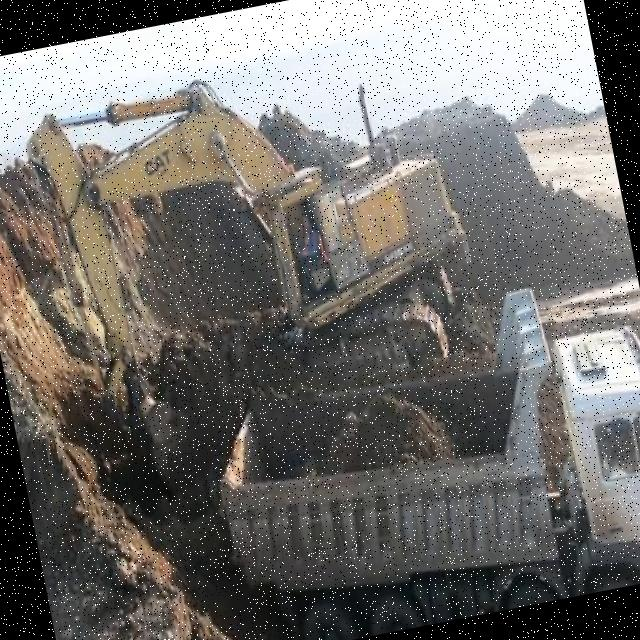Dump Truck: (191, 264, 640, 640)
Excavator: (10, 34, 495, 482)
